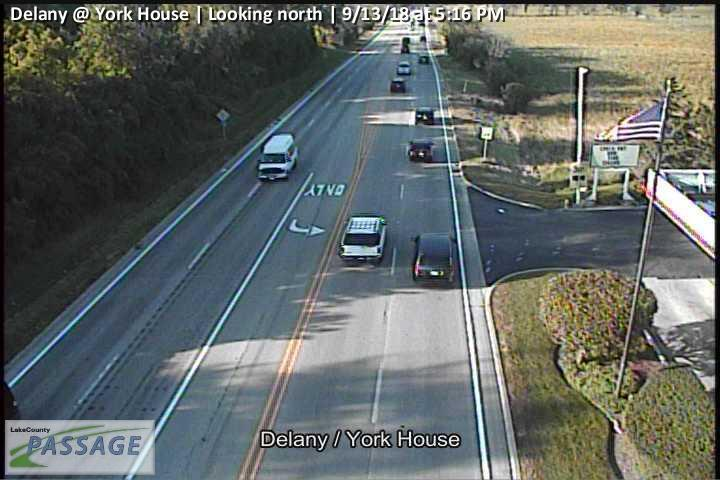SUV: (338, 217, 387, 263), (257, 133, 299, 180), (407, 138, 434, 162), (416, 106, 433, 125), (390, 79, 406, 93), (397, 61, 411, 74)
Sedan: (411, 232, 456, 285), (418, 54, 427, 63)
